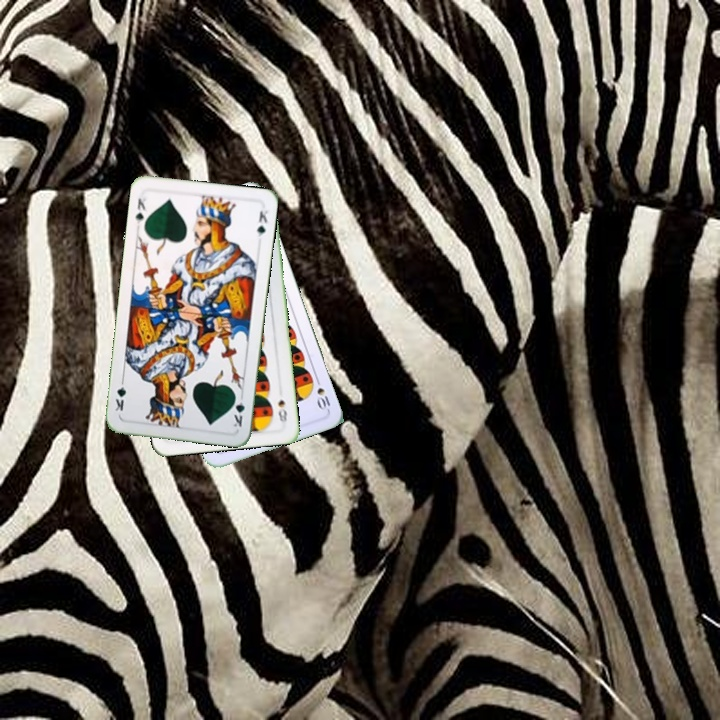GK: (131, 191, 150, 228), (229, 390, 247, 429)
S10: (312, 373, 334, 413)
S8: (274, 396, 289, 426)
